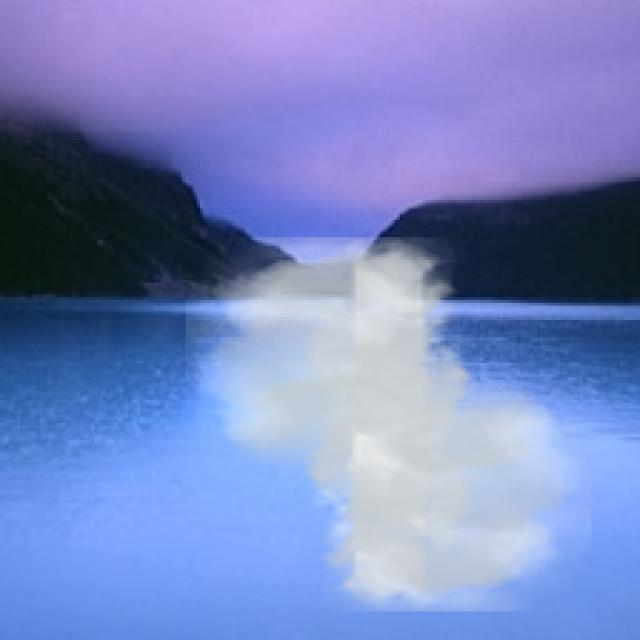Smoke: (186, 237, 592, 612)
